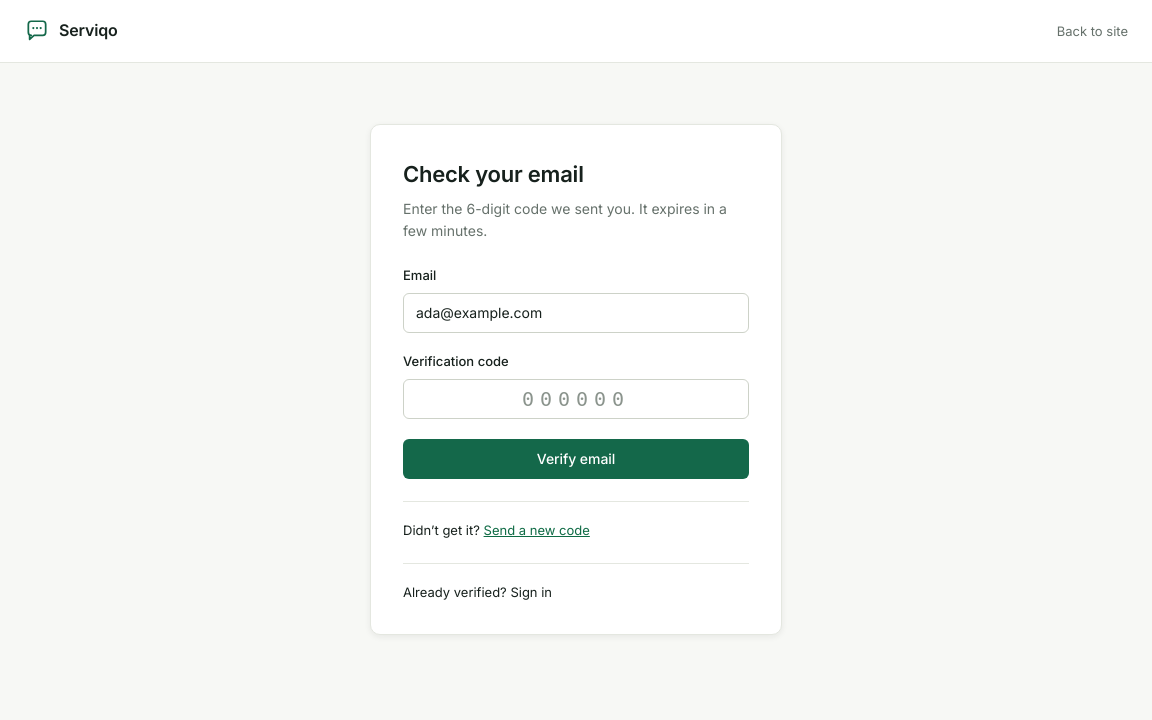
Test: verification › refuses a short code without spending a server attempt
This screenshot has width=1152, height=720.
In the field labelled "Verification code": point(576, 399) [403, 379, 749, 419], type "123"
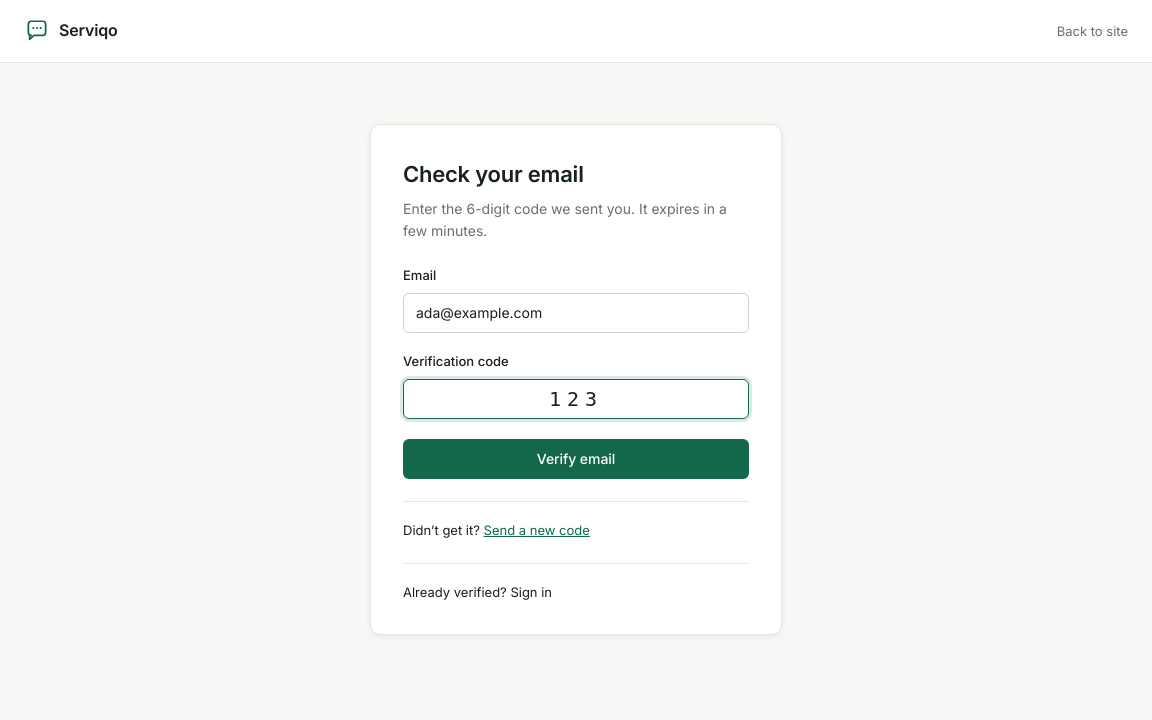
Click the button "Verify email": point(576, 459) [403, 439, 749, 479]
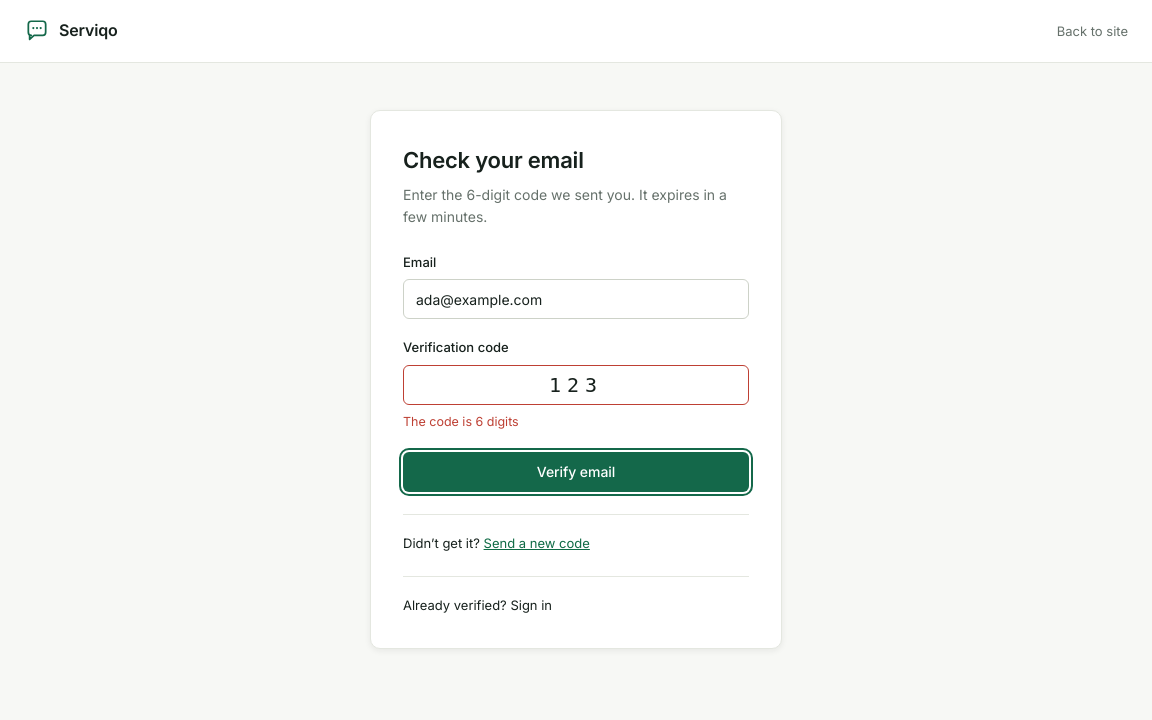
Expected: the text "The code is 6 digits" is shown, [403, 414, 519, 429]
